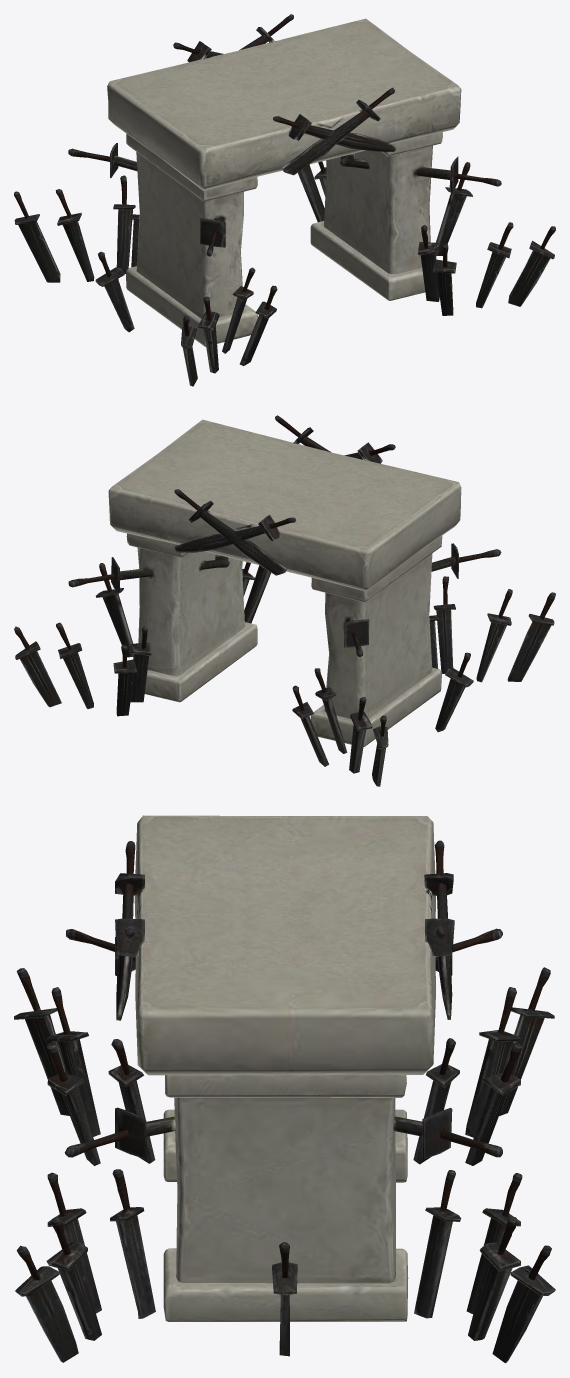
Rendered from praca_portal_pvp.glb.
3 renders of one model, top to bottom at view 1: azimuth 30°, elevation 25°; view 2: azimuth 150°, elevation 25°; view 3: azimuth 270°, elevation 25°, orthographic. The views are drawn at different scales.
Parts seen in each view (by area): view 1: Mesh_0; view 2: Mesh_0; view 3: Mesh_0.
Boxes of the visible parts, x1,y1,x2,y2 form: Mesh_0: [14, 14, 555, 386]; Mesh_0: [14, 415, 555, 786]; Mesh_0: [14, 815, 555, 1363].
Bounding box in the file's own units: 1 × 0.5898 × 0.8164.
Materials: 1 (1 with a texture image).
